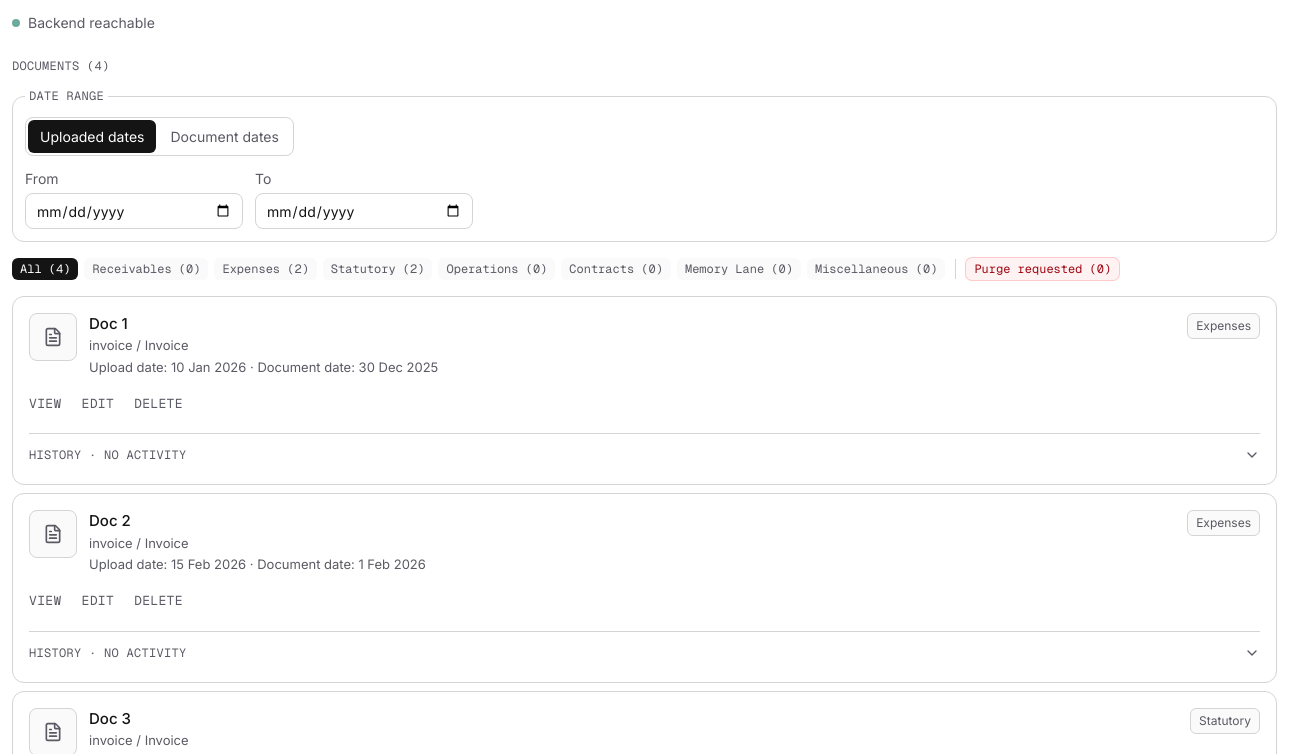
Company Files: the date range (A7) › narrows the list to the documents uploaded inside it, and the counts follow
Type "2026-02-01" into the date field labelled "From" at (134, 211), box [25,193,243,229]
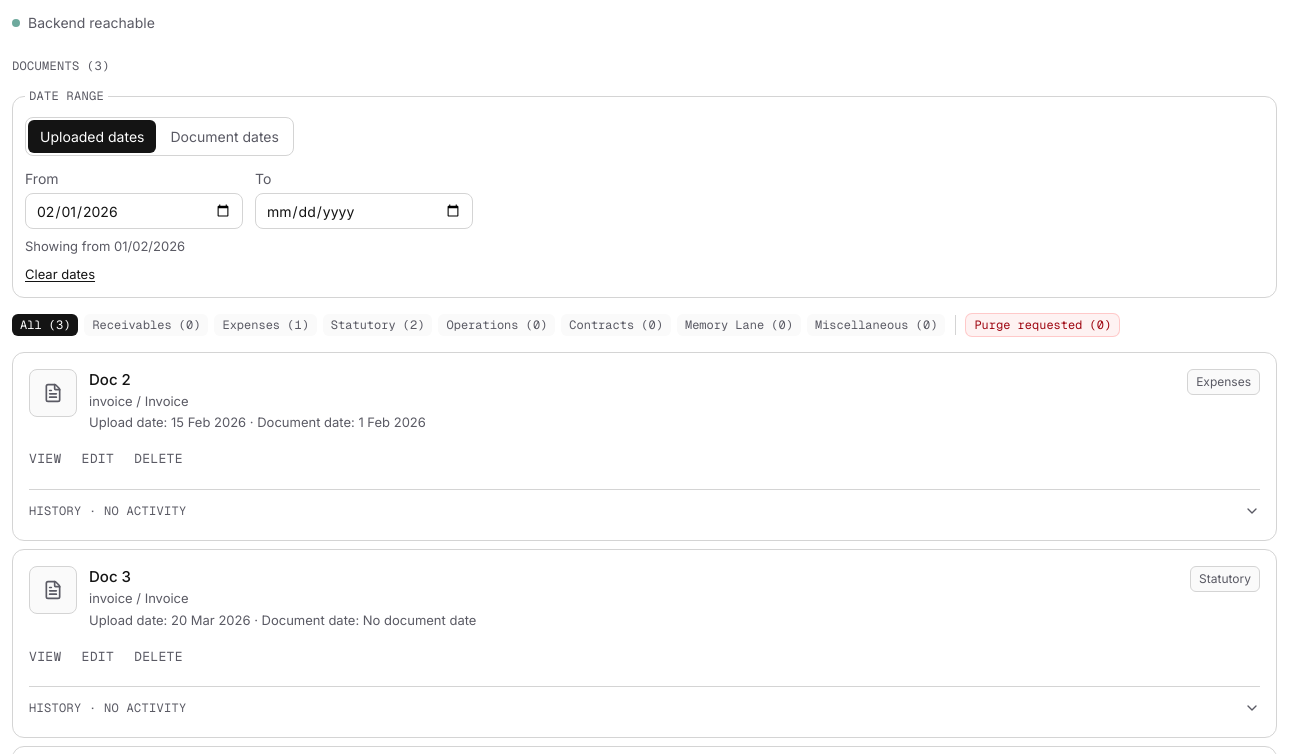
Type "2026-03-31" into the date field labelled "To" at (364, 211), box [255,193,473,229]
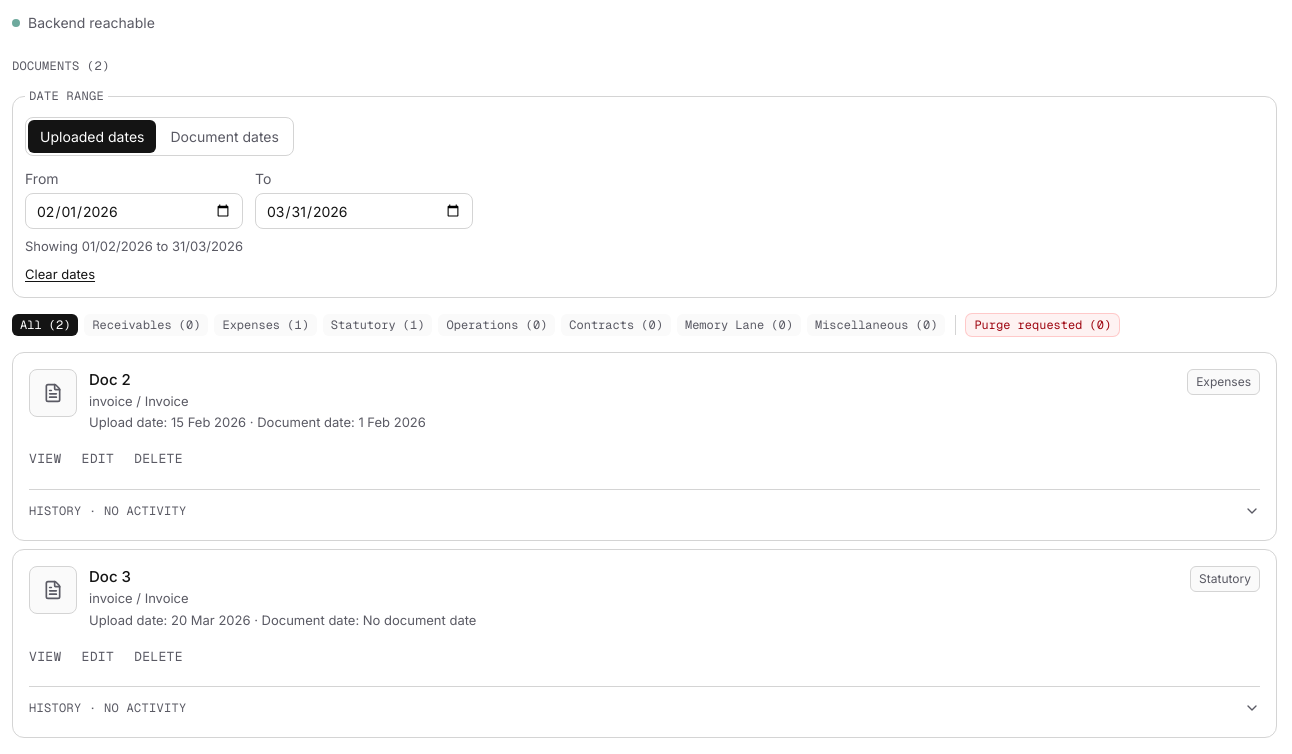
Result: the button "Expenses (1)" is shown at [214,314,317,336]
Result: the button "All (2)" is shown at [12,314,78,336]
Result: the button "Statutory (1)" is shown at [323,314,432,336]
